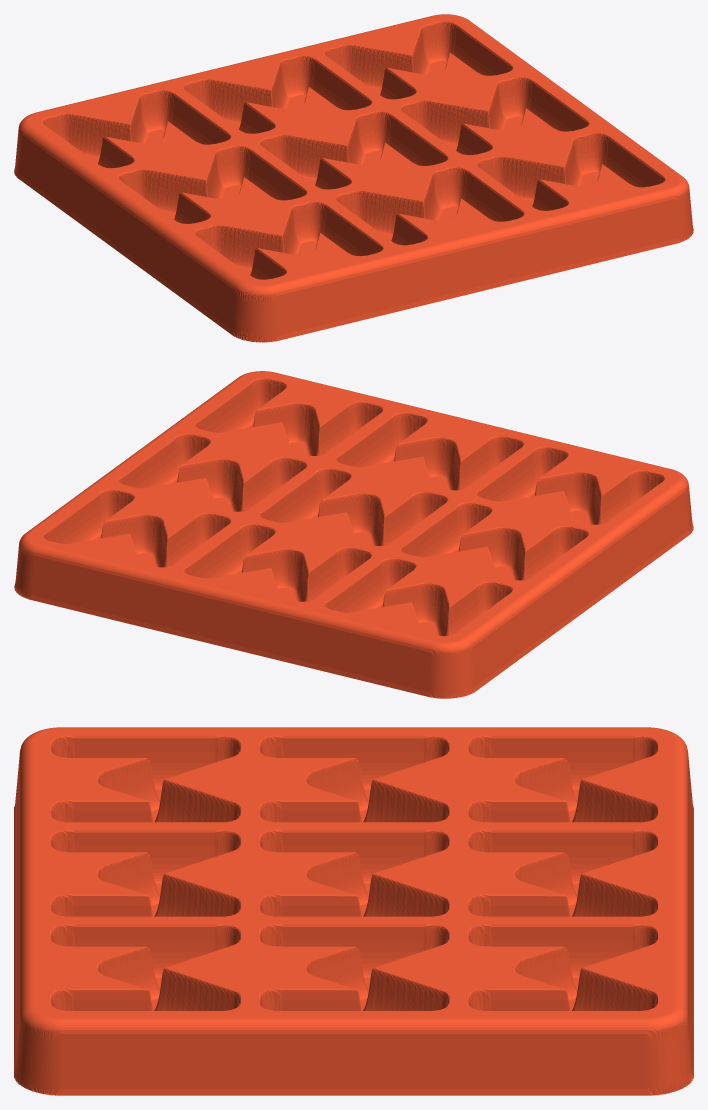
Rendered from mold.glb.
3 renders of one model, top to bottom at view 1: azimuth 30°, elevation 25°; view 2: azimuth 150°, elevation 25°; view 3: azimuth 270°, elevation 25°, orthographic. The views are drawn at different scales.
Parts seen in each view (by area): view 1: geometry_0; view 2: geometry_0; view 3: geometry_0.
Part boxes in pixels (bbox=[...]): geometry_0: bbox=[14, 14, 693, 342]; geometry_0: bbox=[14, 371, 693, 698]; geometry_0: bbox=[14, 727, 693, 1095].
Bounding box in the file's own units: 0.1365 × 0.0145 × 0.1283.
